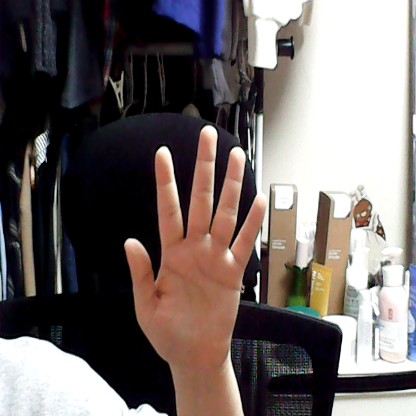Finger_5: (120, 110, 281, 364)
